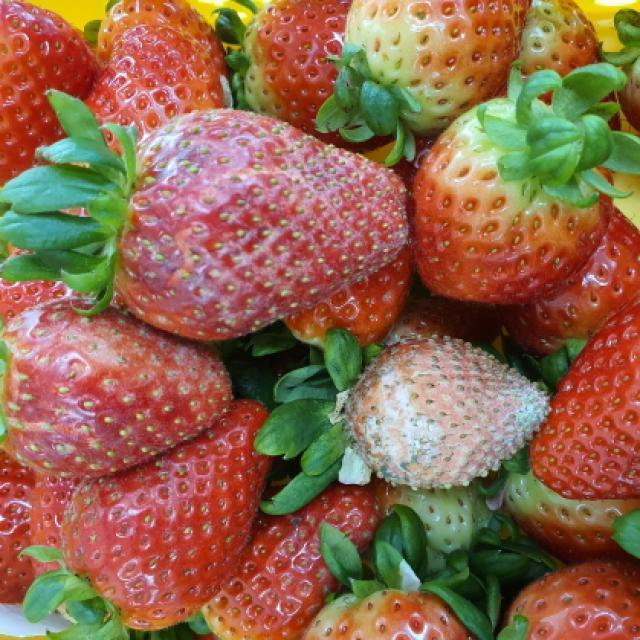Health_100: (34, 392, 274, 632), (408, 118, 616, 310), (337, 0, 532, 128), (89, 4, 238, 166), (534, 322, 640, 492), (1, 0, 89, 204)
Powdery Mildew Fruit: (108, 107, 410, 342), (0, 298, 233, 477), (342, 330, 553, 489)
